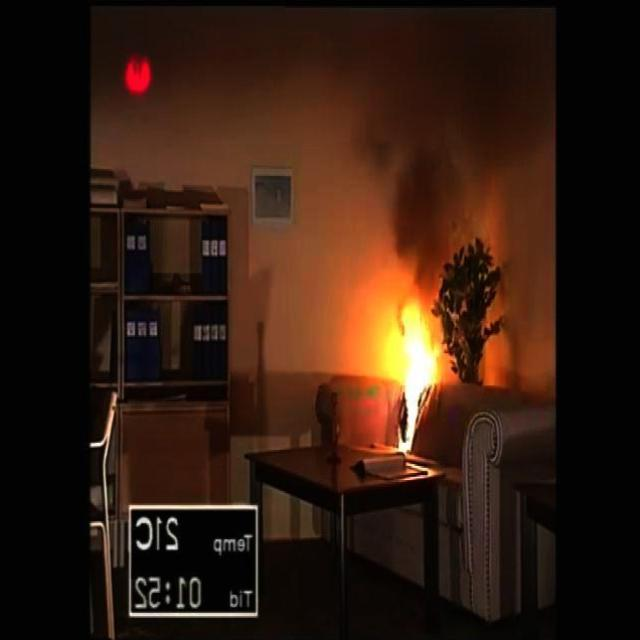fire: (333, 7, 554, 268)
smoke: (392, 281, 445, 458)
